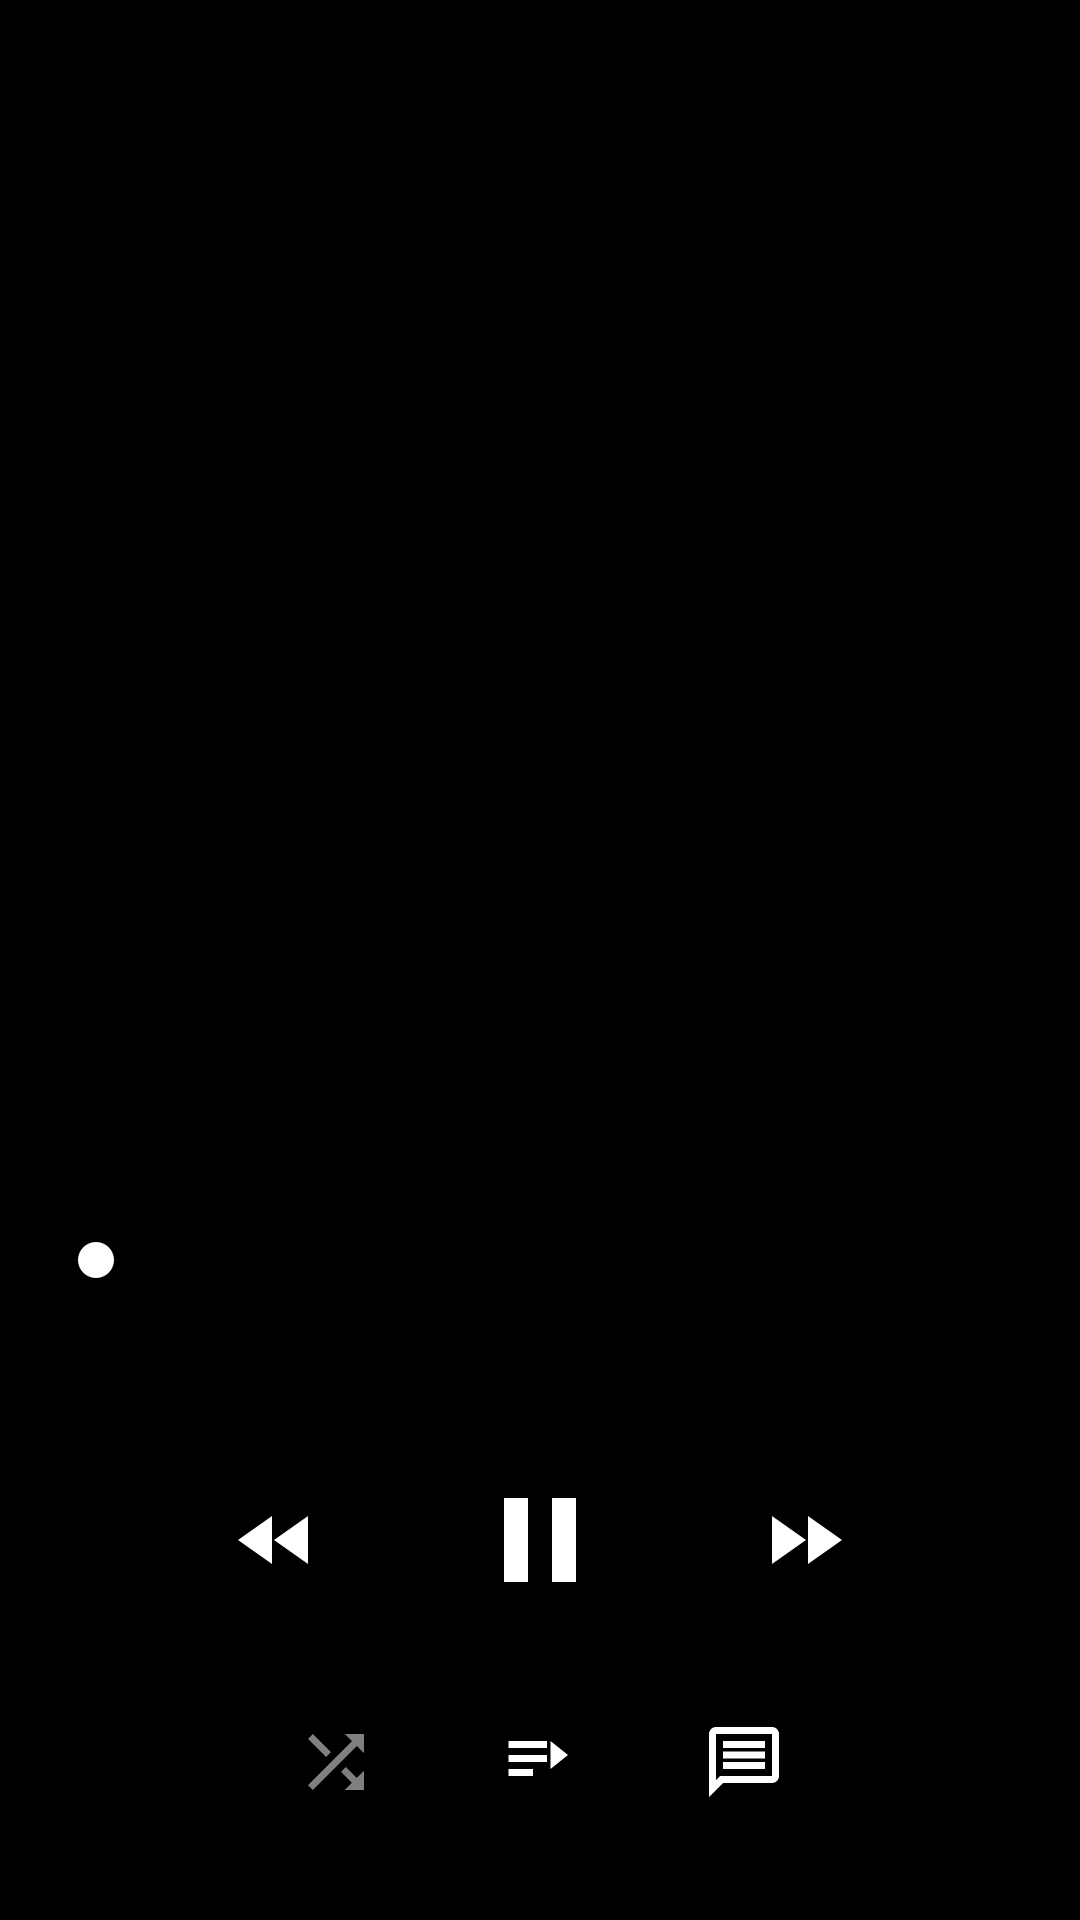

Screen size 1080px x 1920px. Icon name, then its box in pixels as (x1, y1, x2, y2):
forward: (772, 1516, 842, 1564)
lyrics: (709, 1727, 779, 1797)
pause: (504, 1498, 576, 1582)
playlist: (508, 1741, 568, 1776)
rewind: (238, 1516, 308, 1564)
shuffle: (308, 1734, 364, 1790)
